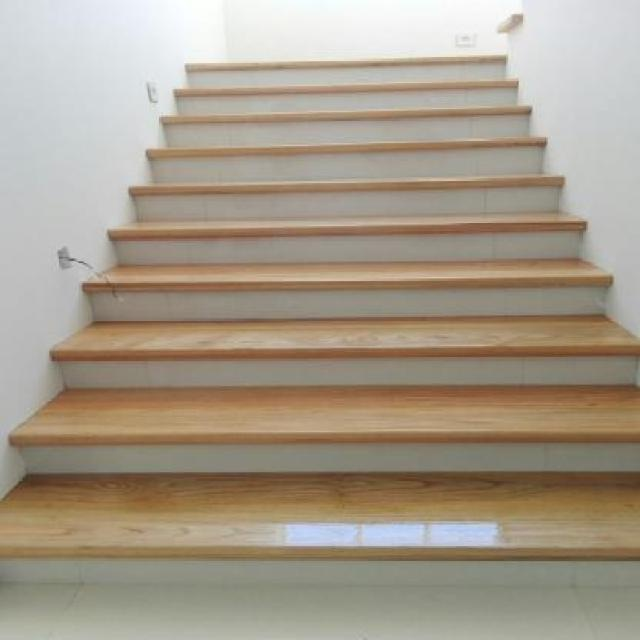stair: (1, 17, 633, 575)
